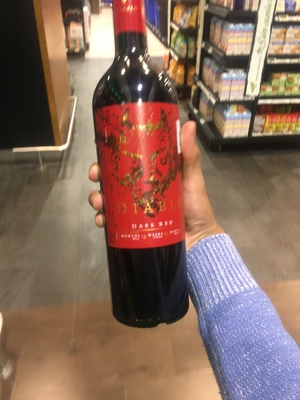diablo dark red: (69, 4, 216, 344)
